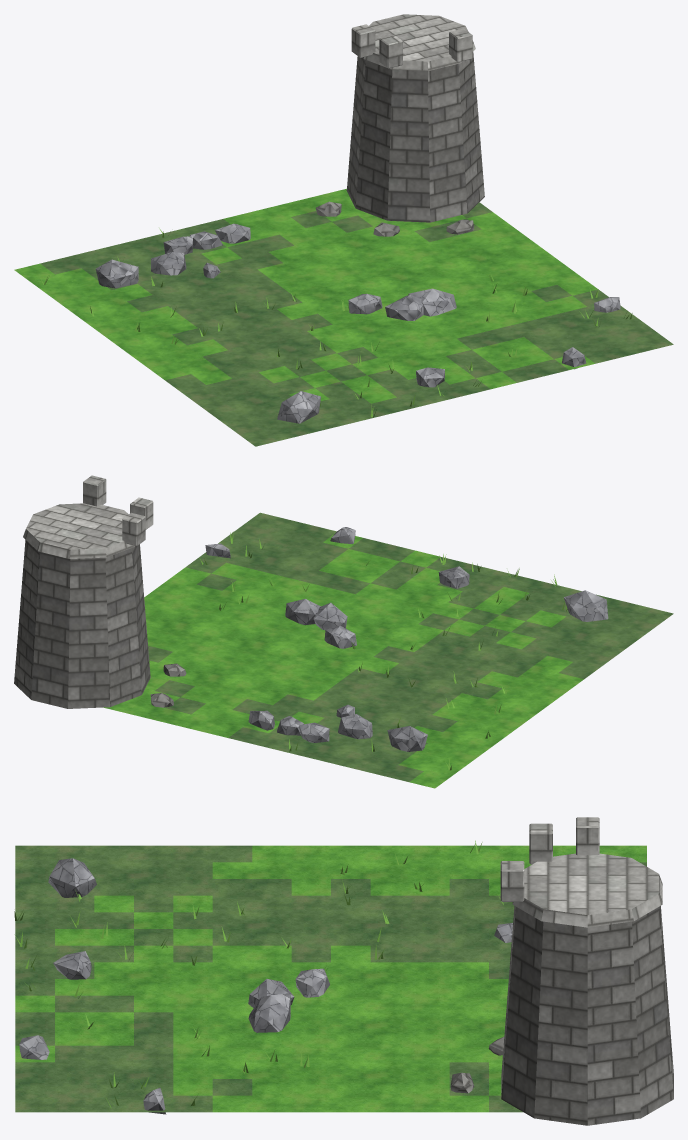
The model's file is chunk_6_2.glb.
3 renders of one model, top to bottom at view 1: azimuth 30°, elevation 25°; view 2: azimuth 150°, elevation 25°; view 3: azimuth 270°, elevation 25°, orthographic. The views are drawn at different scales.
Visible parts, largest first — view 1: chunk_6_2; view 2: chunk_6_2; view 3: chunk_6_2.
Part boxes in pixels (x1,y1,x2,y2): chunk_6_2: (14, 14, 673, 446); chunk_6_2: (14, 475, 673, 788); chunk_6_2: (14, 817, 673, 1125).
Bounding box in the file's own units: 16.8 × 7 × 16.72.
Materials: 7 (6 with a texture image).
